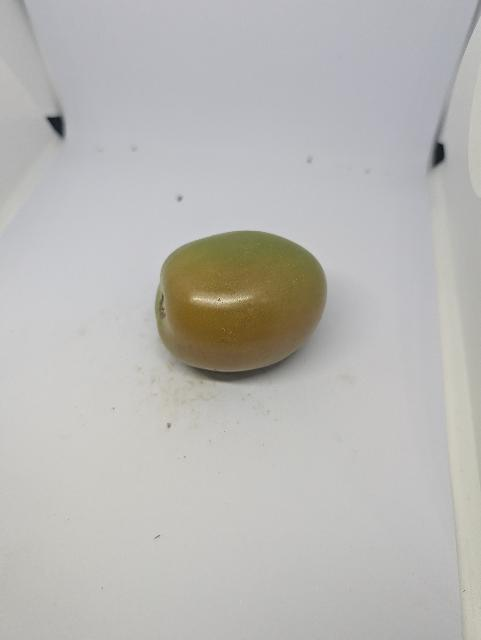breaker: (150, 225, 330, 381)
